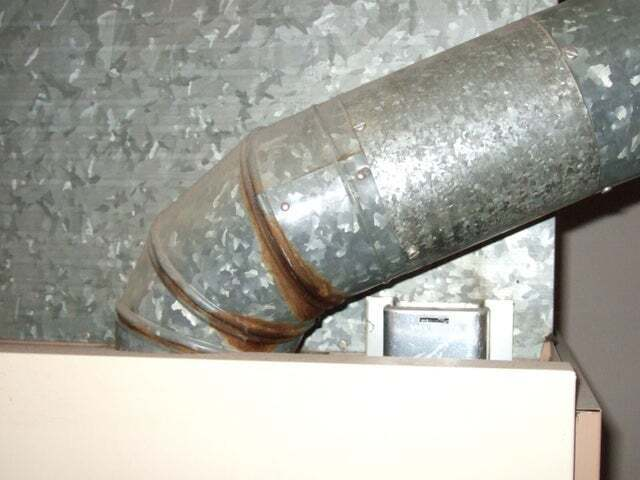Low: (114, 259, 209, 357)
Moderate: (210, 171, 343, 355)
